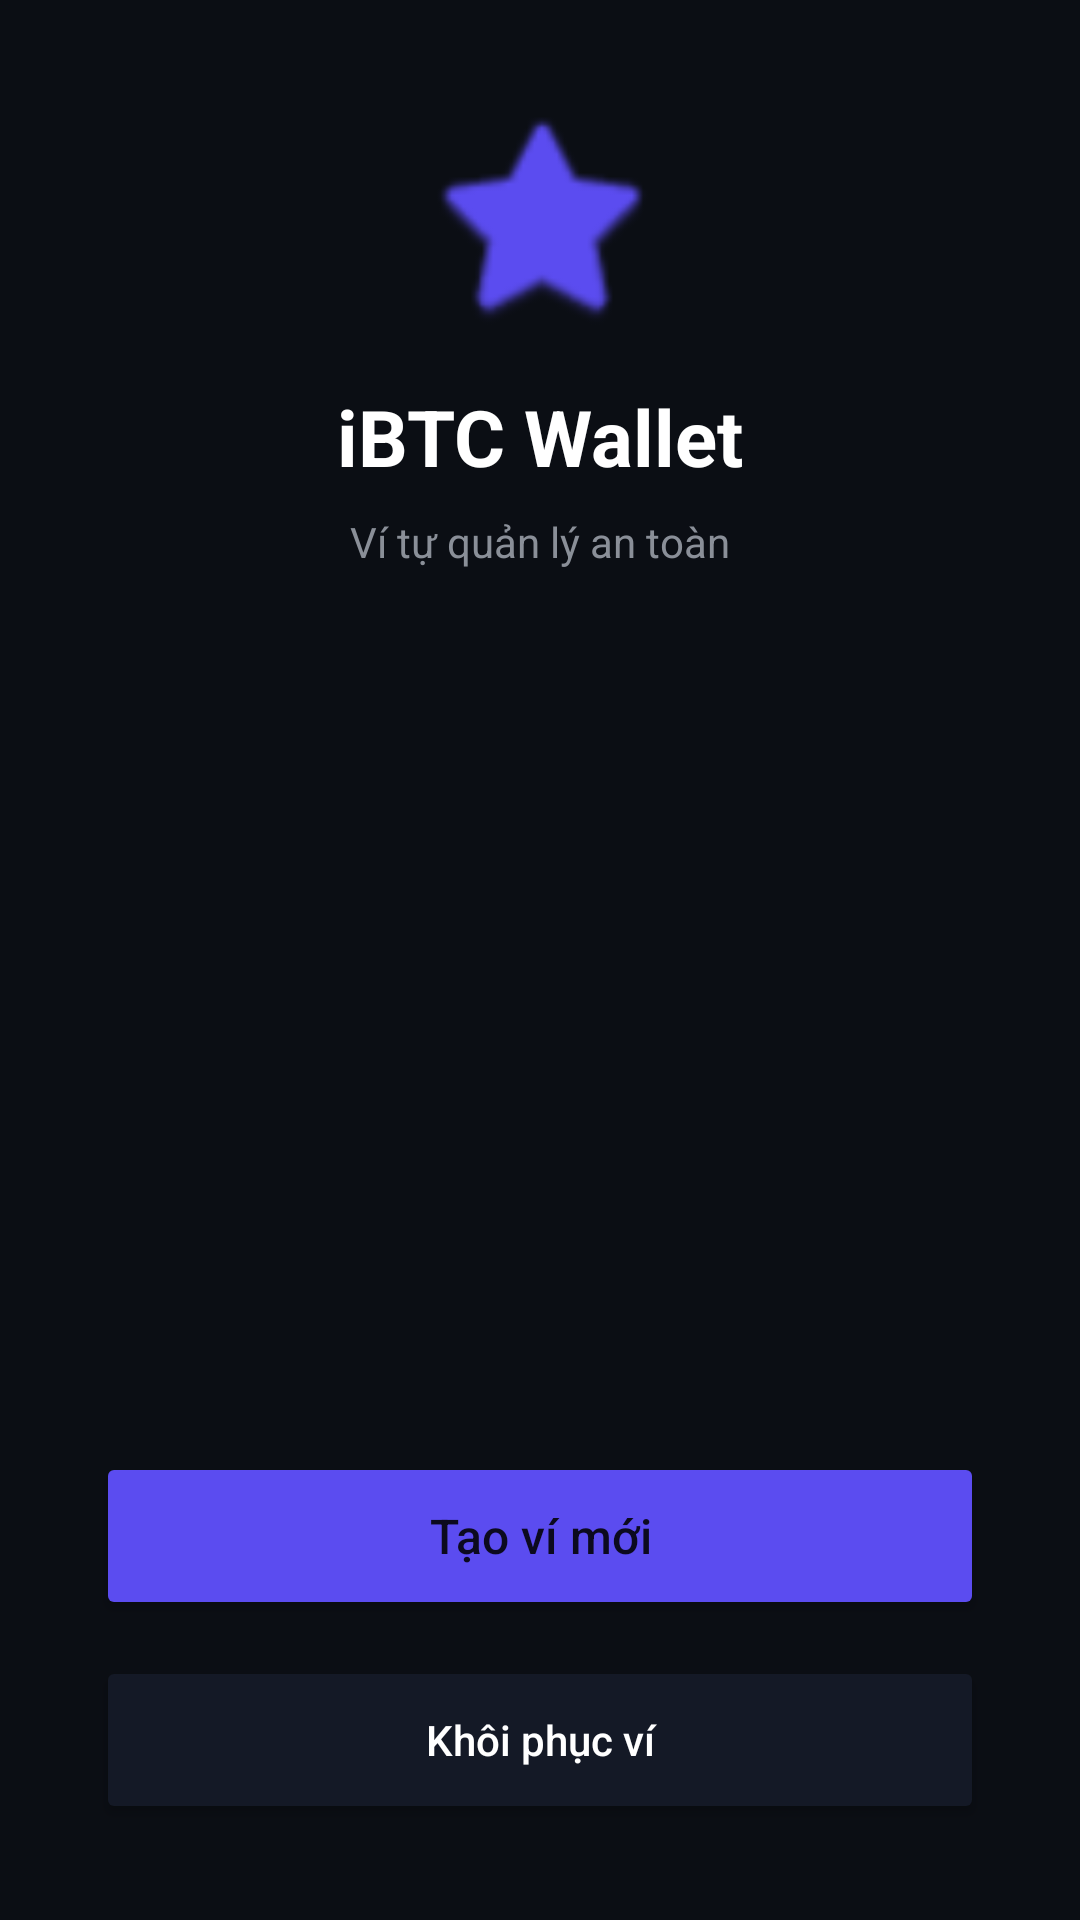

Icon bounding boxes for this 1080px x 1920px phone screenshot, format (x1, y1, x2, y2):
star on: (442, 120, 642, 315)
